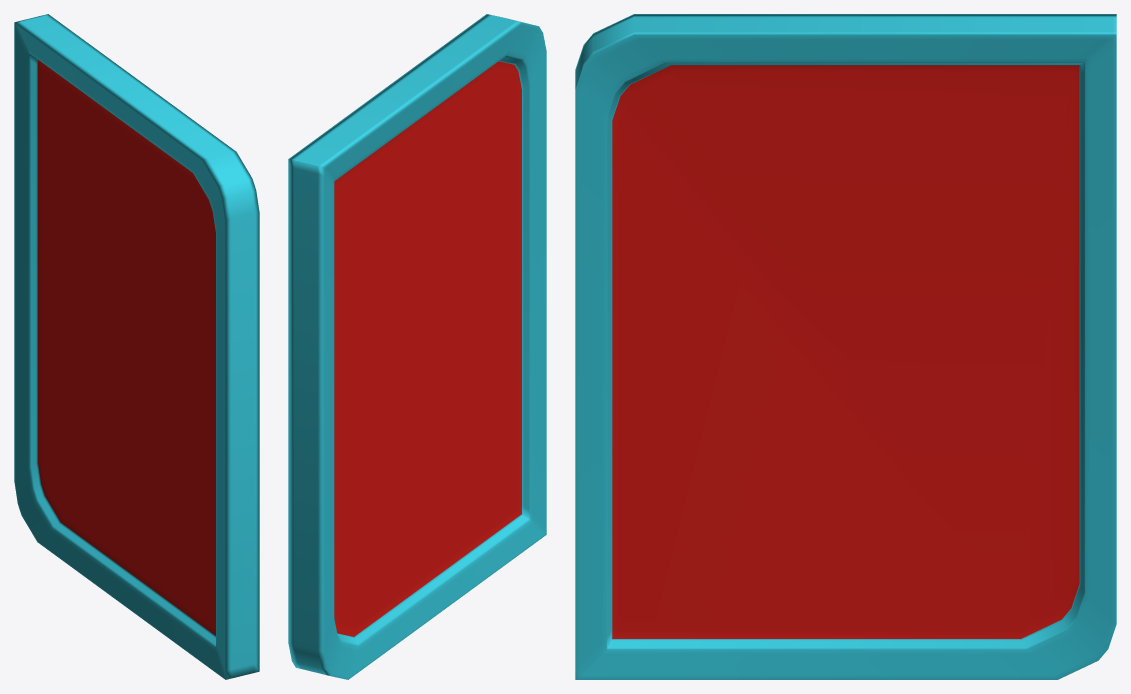
Rendered from AbiltyCard.fbx.
The picture shows the model from 3 angles, left to right: view 1: azimuth 30°, elevation 25°; view 2: azimuth 150°, elevation 25°; view 3: azimuth 270°, elevation 25°; orthographic projection. The views are drawn at different scales.
Parts seen in each view (by area): view 1: Cube; view 2: Cube; view 3: Cube.
Boxes of the visible parts, bbox=[...] form: Cube: bbox=[14, 14, 259, 679]; Cube: bbox=[288, 14, 546, 679]; Cube: bbox=[575, 14, 1116, 679].
Size of the model in its own units: 15.86 by 225 by 171.
